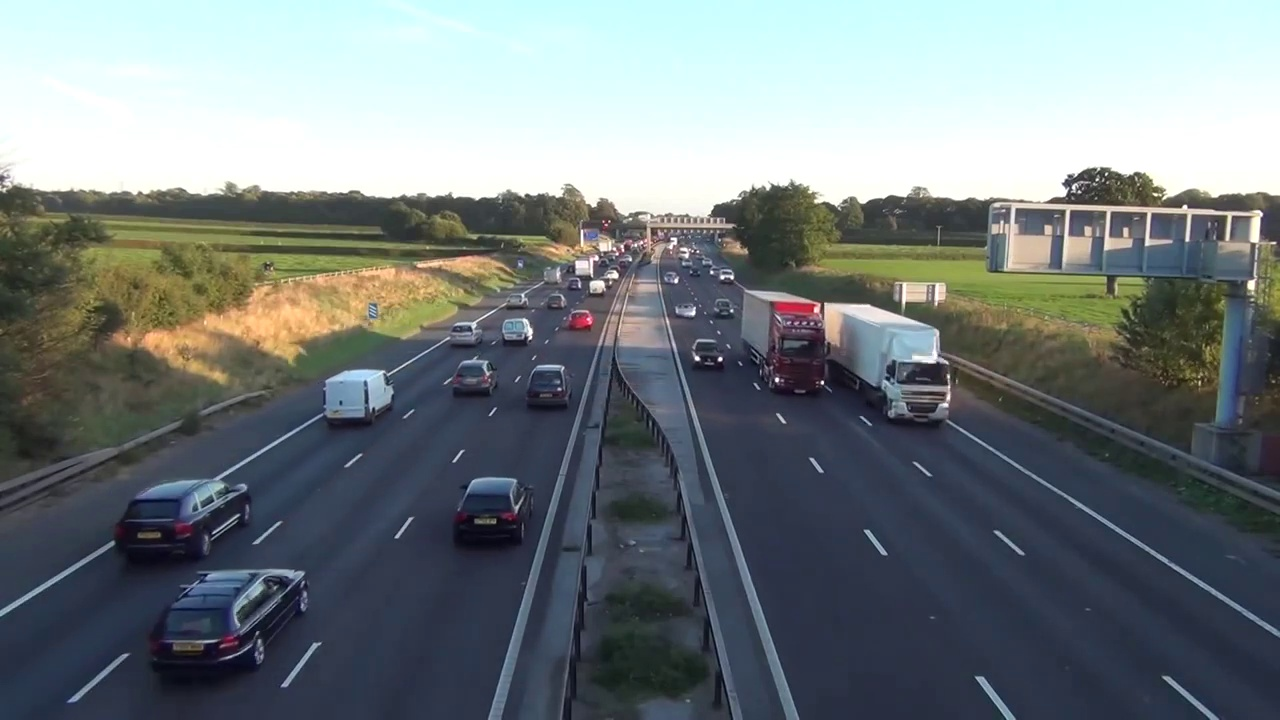bus: (149, 568, 310, 672), (117, 480, 250, 557), (454, 477, 532, 542), (526, 365, 573, 406), (450, 360, 496, 396), (690, 338, 724, 369), (450, 321, 483, 345), (712, 298, 734, 319), (568, 309, 591, 329), (506, 293, 528, 308), (675, 302, 696, 317), (548, 294, 566, 308), (663, 270, 679, 284), (569, 276, 582, 291)
car: (823, 303, 950, 423), (742, 290, 830, 392)
lorry: (324, 369, 394, 423), (503, 318, 532, 342), (589, 280, 605, 295), (719, 270, 735, 283)
